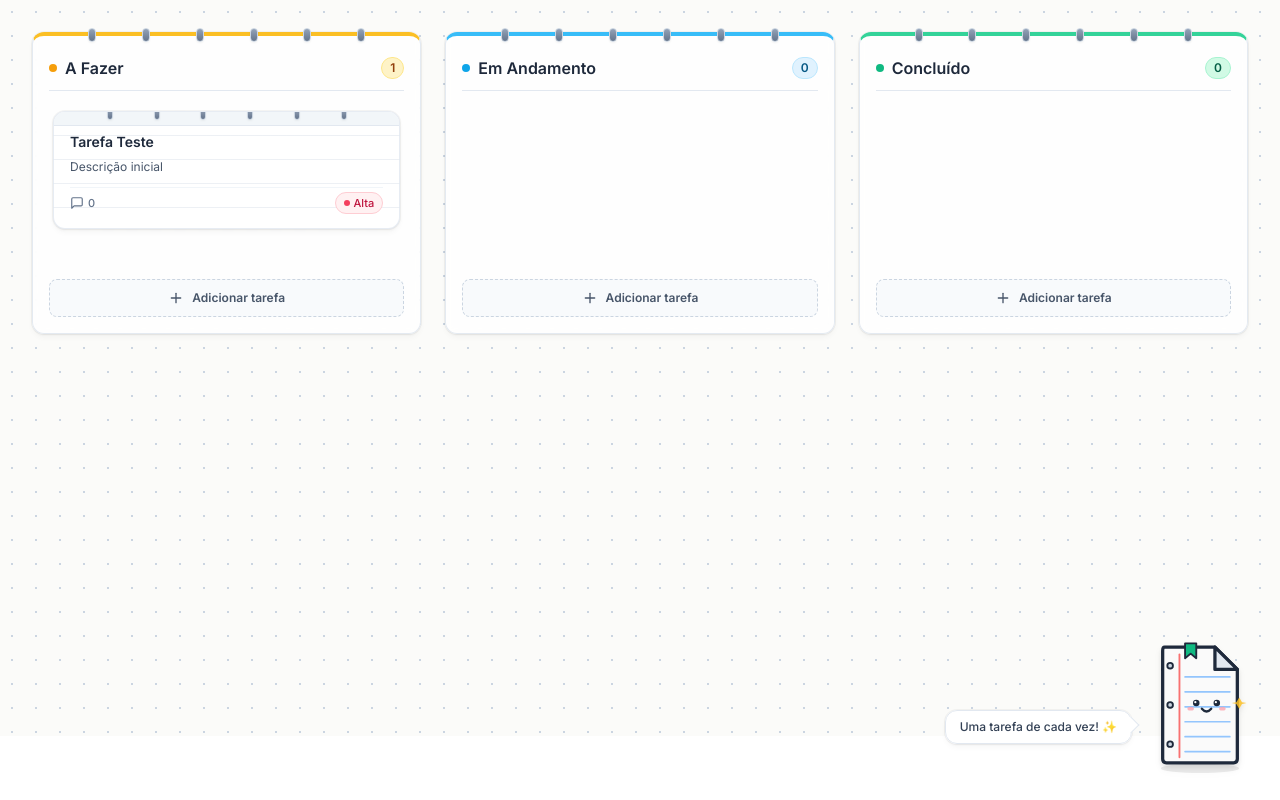
Test case: PaginaQuadro › cria uma tarefa na coluna selecionada
Check: the heading "Tarefa Teste" is shown, box [70,133,154,150]
Click the button "Adicionar tarefa" below "A Fazer" at point(227, 298), box [49,279,404,317]
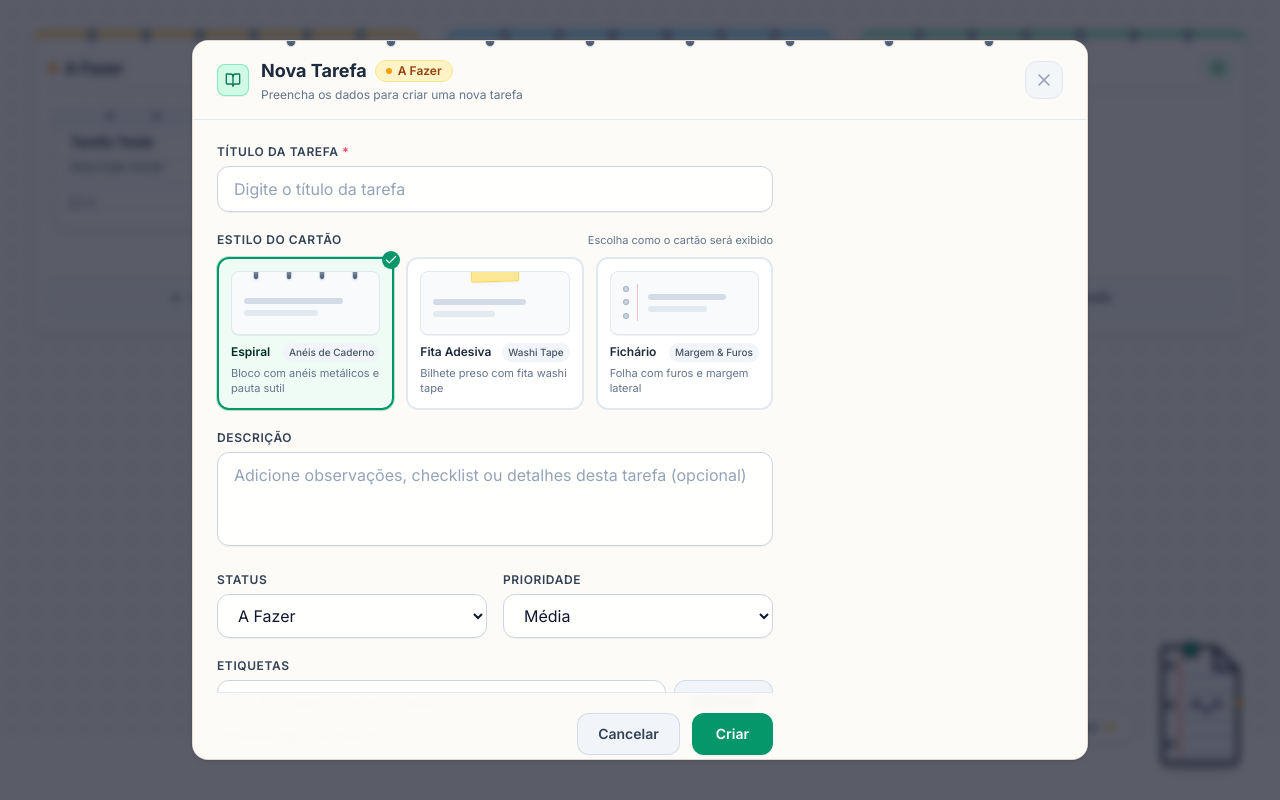
Type "Nova Tarefa Criada" into the field with placeholder "Digite o título da tarefa" at point(495, 189), box [217,166,773,212]
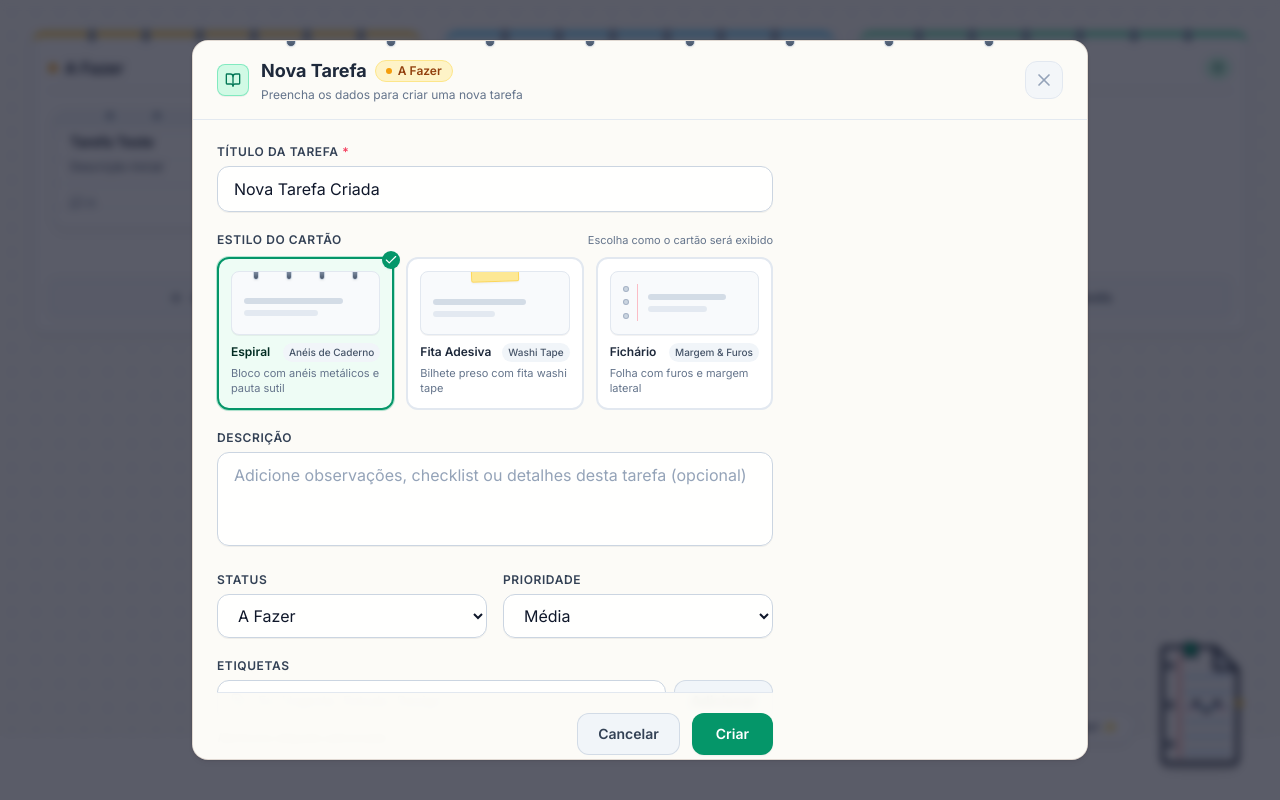
Click the button "Criar" at point(732, 734), box [692,713,773,755]
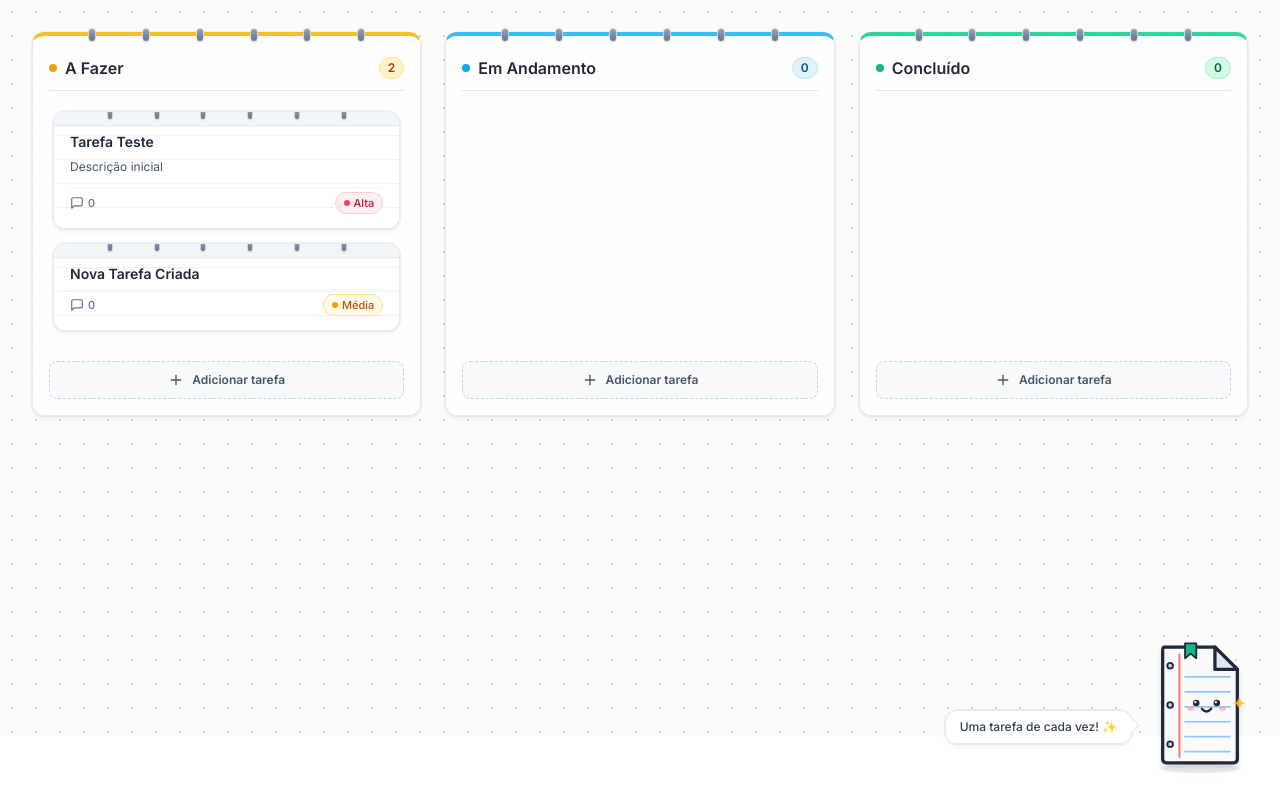
Check: the heading "Nova Tarefa Criada" is shown, box [70,265,200,282]
